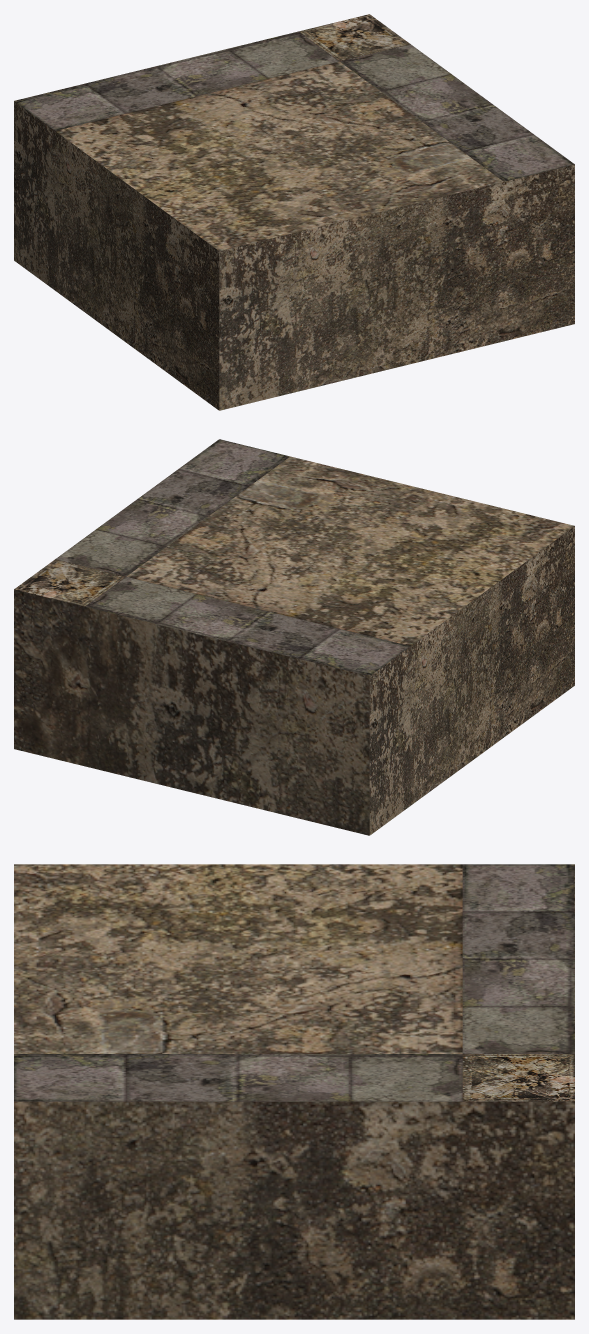
Rendered from materials_5_floor_rectangle_1.fbx.
3 views of the same model, one above another, from view 1: azimuth 30°, elevation 25°; view 2: azimuth 150°, elevation 25°; view 3: azimuth 270°, elevation 25° (orthographic). The views are drawn at different scales.
Parts seen in each view (by area): view 1: materials_5_floor_rectangle_1; view 2: materials_5_floor_rectangle_1; view 3: materials_5_floor_rectangle_1.
Boxes of the visible parts, left/top/right/bottom form: materials_5_floor_rectangle_1: left=14, top=14, right=574, bottom=410; materials_5_floor_rectangle_1: left=14, top=439, right=574, bottom=835; materials_5_floor_rectangle_1: left=14, top=864, right=574, bottom=1319.
Bounding box in the file's own units: 100 × 42.89 × 100.
